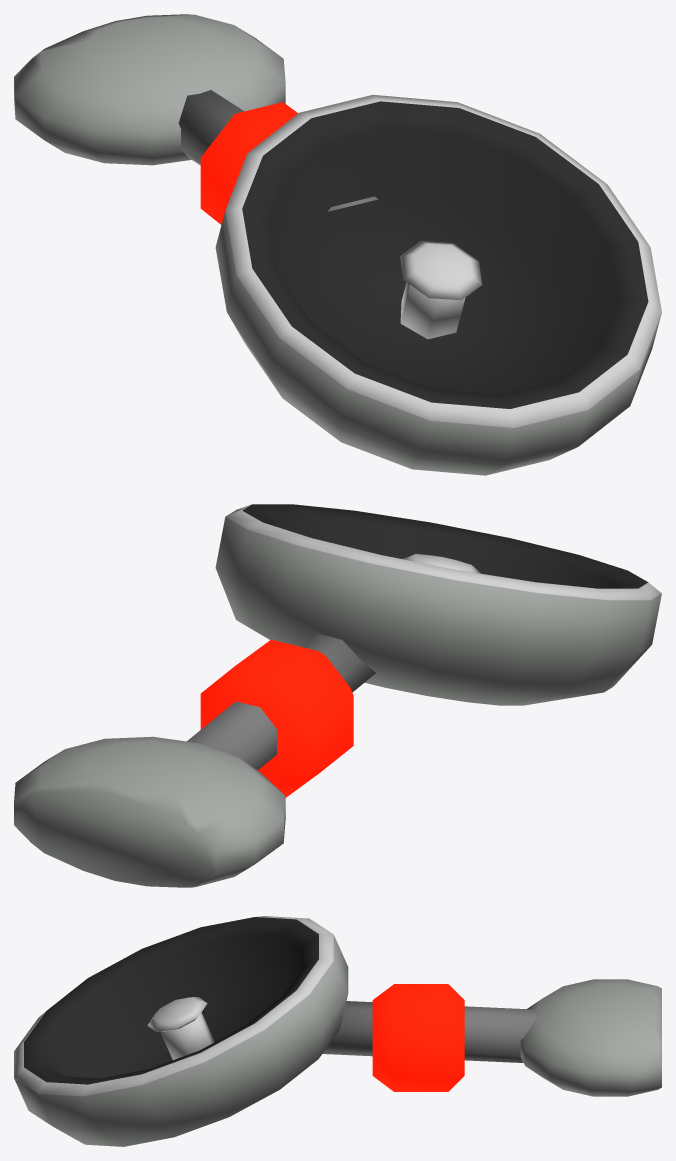
File: newsh7-203-f3.glb
The picture shows the model from 3 angles, top to bottom: view 1: azimuth 30°, elevation 25°; view 2: azimuth 150°, elevation 25°; view 3: azimuth 270°, elevation 25°; orthographic projection. The views are drawn at different scales.
Visible parts, largest first — view 1: newsh7-203.002; view 2: newsh7-203.002; view 3: newsh7-203.002.
Boxes of the visible parts, box(x1,y1,x2,y2) form: newsh7-203.002: box(14, 14, 661, 475); newsh7-203.002: box(14, 504, 661, 887); newsh7-203.002: box(14, 916, 661, 1146).
Size of the model in its own units: 0.9808 by 0.587 by 2.
